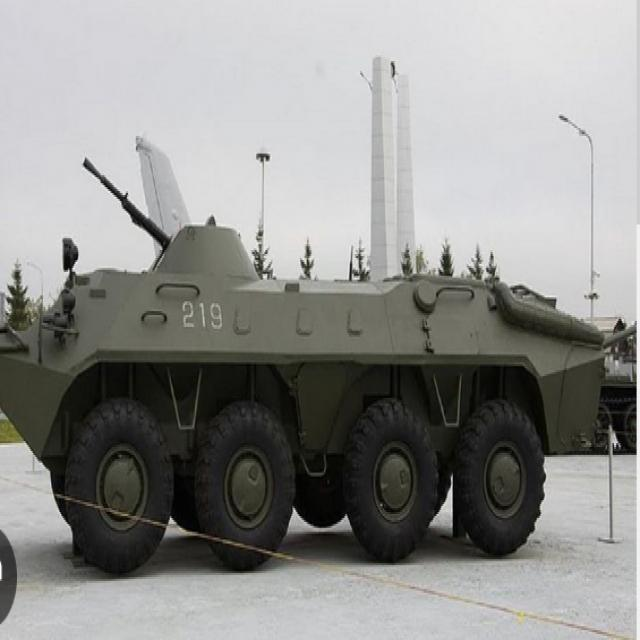MIL_APC: (0, 150, 612, 575)
